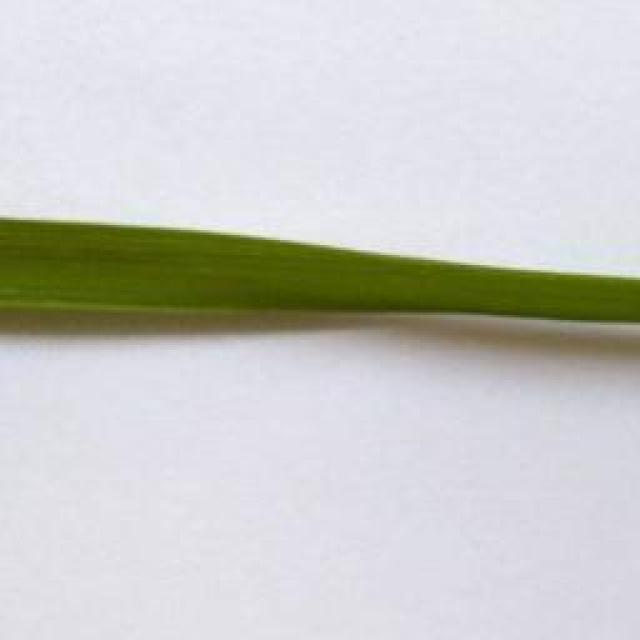Healthy-Plant: (0, 219, 640, 319)
